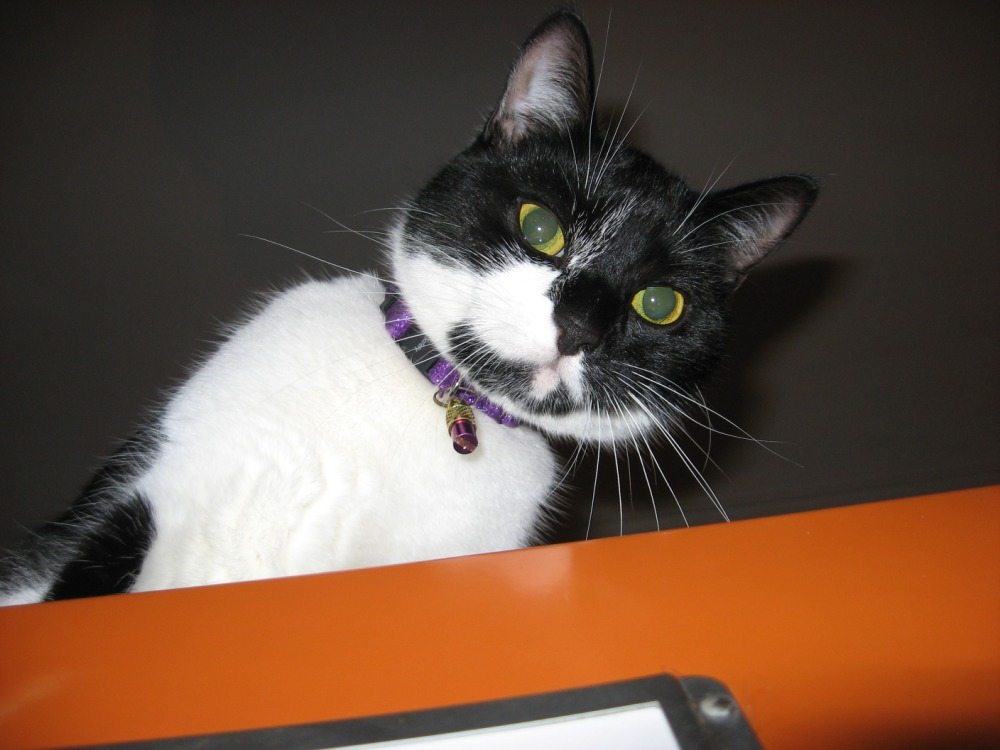cat: (0, 4, 817, 604)
